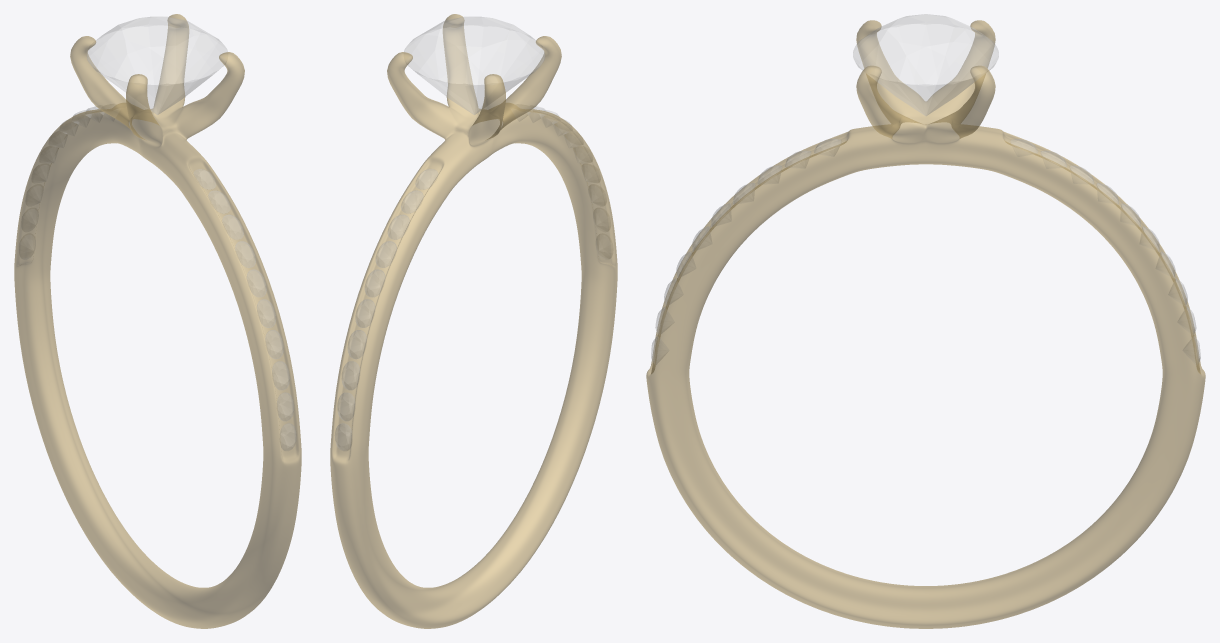
The picture shows the model from 3 angles, left to right: view 1: azimuth 30°, elevation 25°; view 2: azimuth 150°, elevation 25°; view 3: azimuth 270°, elevation 25°; orthographic projection. The views are drawn at different scales.
Parts seen in each view (by area): view 1: Ring, Diamond; view 2: Ring, Diamond; view 3: Ring, Diamond.
Part boxes in pixels (x1,y1,x2,y2): Ring: [14, 14, 301, 628]; Diamond: [19, 17, 296, 450]; Ring: [330, 14, 617, 628]; Diamond: [335, 17, 613, 450]; Ring: [646, 20, 1205, 628]; Diamond: [651, 14, 1200, 364].
Bounding box in the file's own units: 0.6116 × 2.75 × 2.34.
